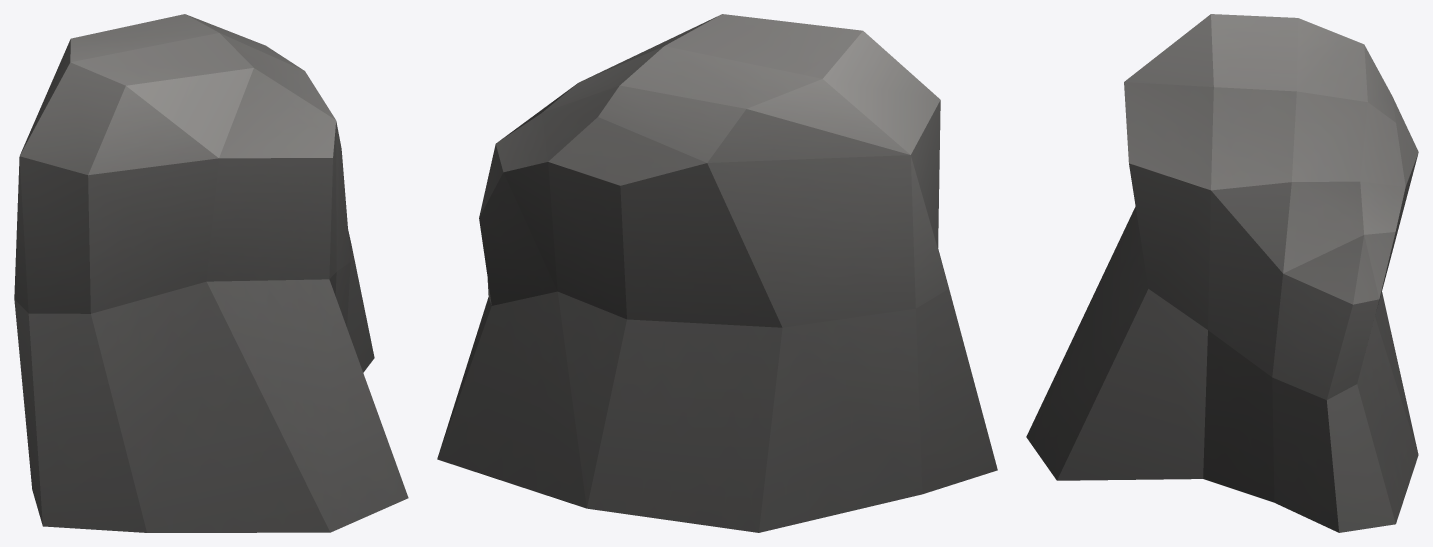
The model's file is RockPlainGrey1.fbx.
3 renders of one model, left to right at view 1: azimuth 30°, elevation 25°; view 2: azimuth 150°, elevation 25°; view 3: azimuth 270°, elevation 25°, orthographic. The views are drawn at different scales.
Parts seen in each view (by area): view 1: RockPlainGrey1; view 2: RockPlainGrey1; view 3: RockPlainGrey1.
Part boxes in pixels (x1=…): RockPlainGrey1: x1=14, y1=14, x2=408, y2=532; RockPlainGrey1: x1=437, y1=14, x2=997, y2=532; RockPlainGrey1: x1=1026, y1=14, x2=1418, y2=532.
Size of the model in its own units: 50.24 by 45.68 by 43.3.
